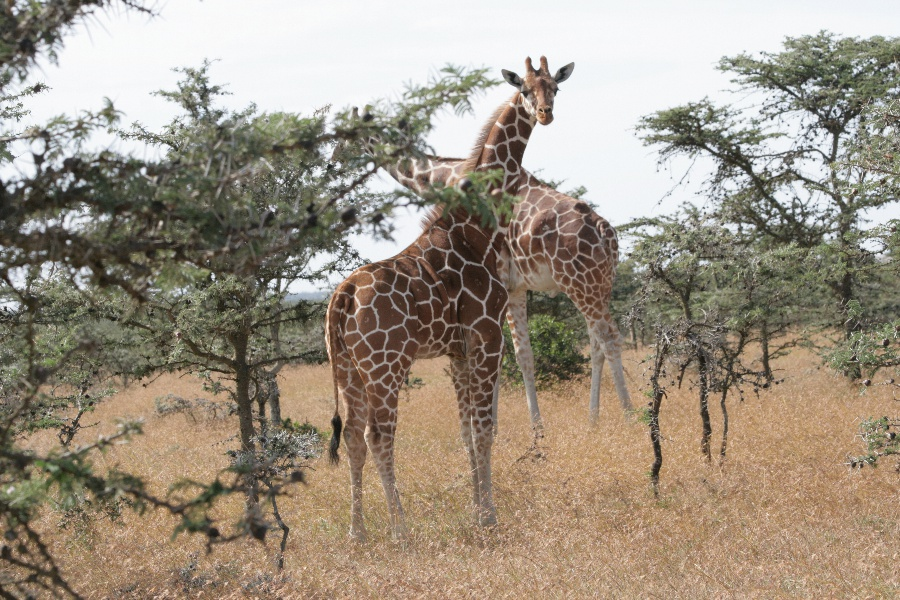giraffe: (319, 44, 583, 534), (493, 178, 631, 319)
